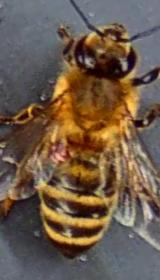varroa_mite: (42, 135, 75, 166)
